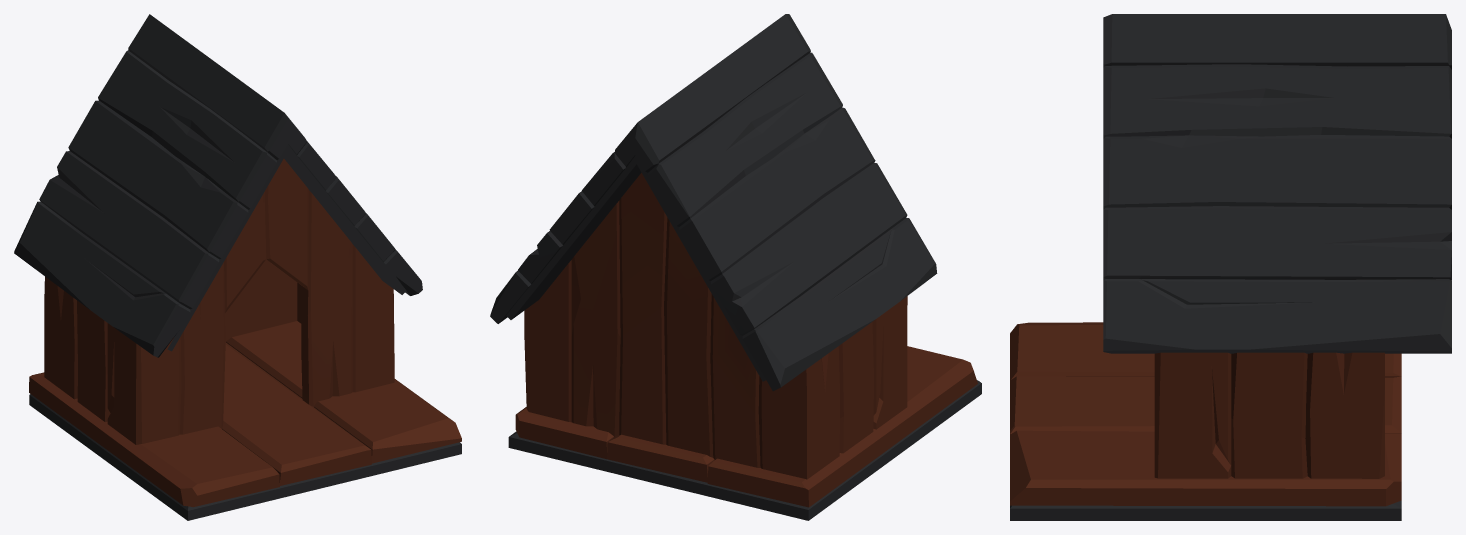
Rendered from Dog_House_1.fbx.
The picture shows the model from 3 angles, left to right: view 1: azimuth 30°, elevation 25°; view 2: azimuth 150°, elevation 25°; view 3: azimuth 270°, elevation 25°; orthographic projection. The views are drawn at different scales.
Parts seen in each view (by area): view 1: Dog_House_1; view 2: Dog_House_1; view 3: Dog_House_1.
Boxes of the visible parts, left/top/right/bottom form: Dog_House_1: left=14, top=14, right=461, bottom=520; Dog_House_1: left=490, top=14, right=981, bottom=520; Dog_House_1: left=1010, top=14, right=1451, bottom=520.
Bounding box in the file's own units: 34.55 × 41.04 × 38.65.
